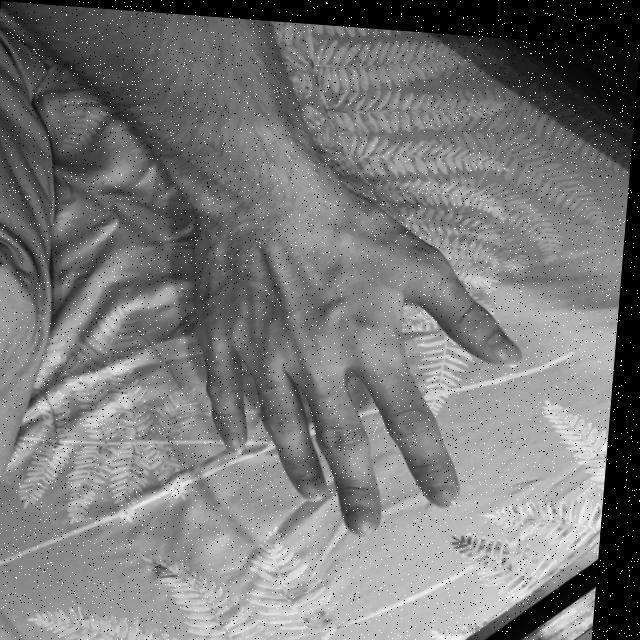no-gloves: (176, 189, 540, 541)
